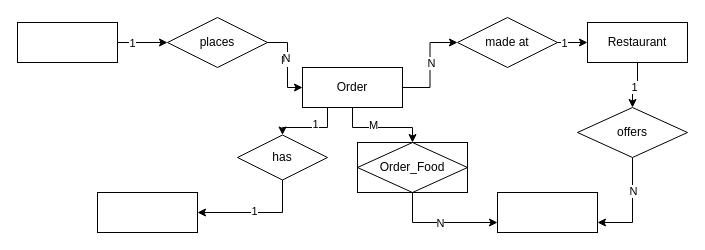
The diagram is 705 pixels wide and 250 high, and some of its shapes have lost their labels. The shapes that lost their labels are listed below. From the top down, each one's centre as x and y in pixels, then its label:
[67,42]: User
[147,212]: Payment
[547,212]: Food
